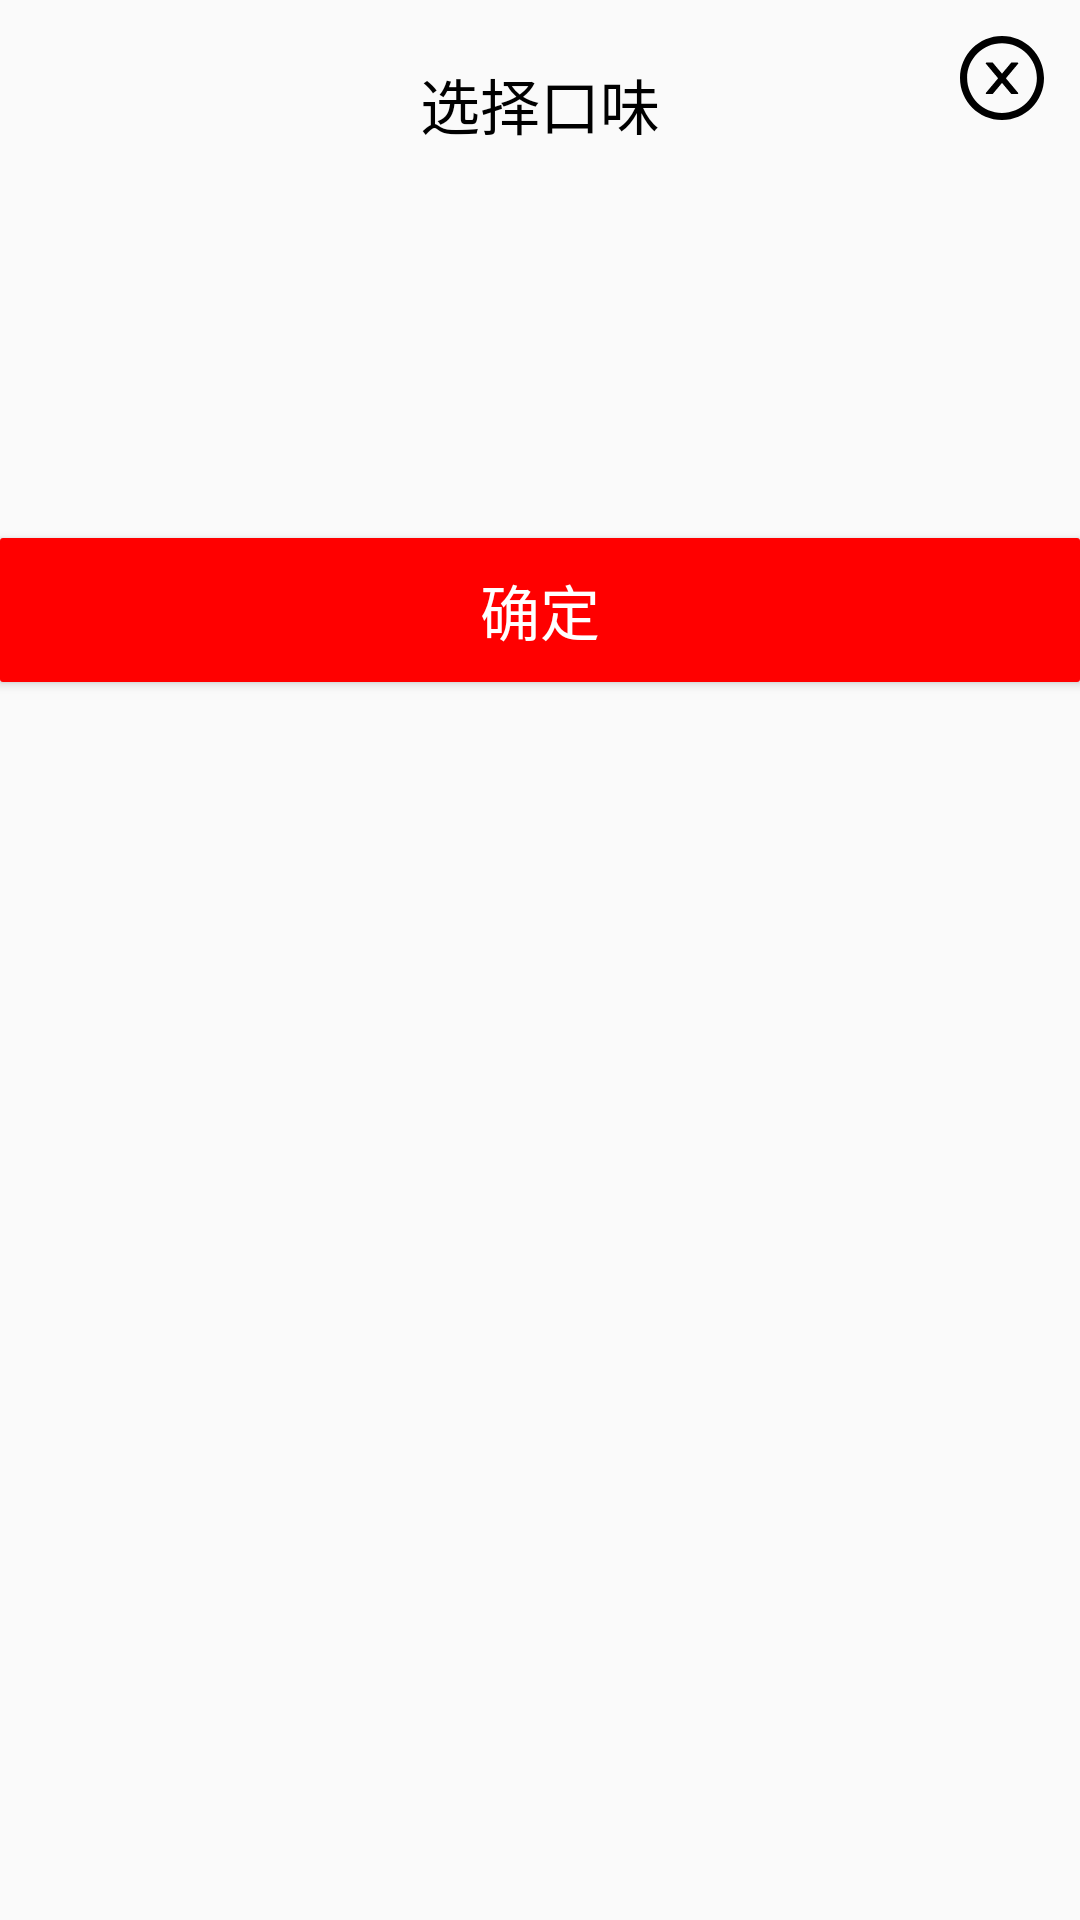

Screen size 1080x1920. Icon name, then its box in pixels as (left=x1, top=y1, right=x2, bottom=y2):
close circle: (left=960, top=36, right=1044, bottom=120)
